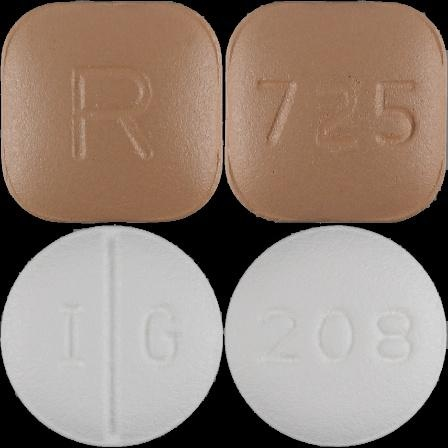68645-466: (0, 0, 224, 224)
